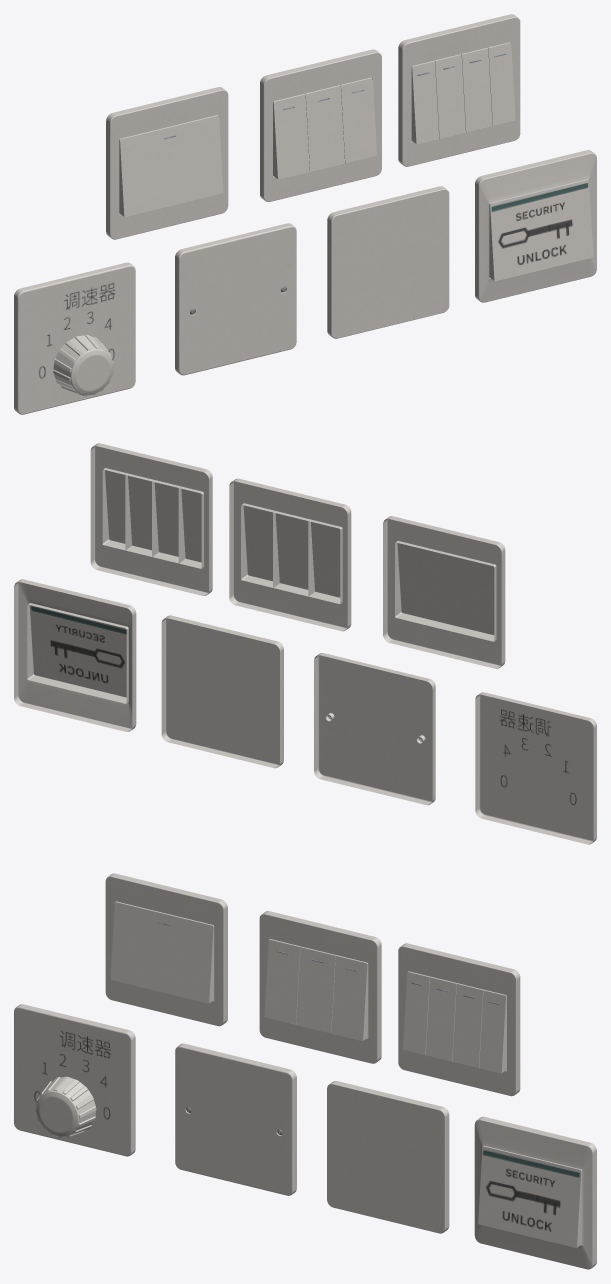
Rendered from switches.glb.
The picture shows the model from 3 angles, top to bottom: view 1: azimuth 30°, elevation 25°; view 2: azimuth 150°, elevation 25°; view 3: azimuth 330°, elevation 25°; orthographic projection.
Parts seen in each view (by area): view 1: 2, 0, 1, 4, 3, 6, 5; view 2: 2, 0, 1, 3, 4, 6, 5; view 3: 3, 0, 4, 1, 2, 5, 6.
Part boxes in pixels (x1,y1,x2,y2): 2: (106,87,228,239); 0: (398,14,520,166); 1: (327,186,449,338); 4: (475,150,596,302); 3: (260,49,381,201); 6: (14,262,135,414); 5: (175,223,296,375); 2: (383,516,505,668); 0: (90,443,212,595); 1: (161,615,283,768); 3: (229,478,351,631); 4: (14,579,136,731); 6: (475,692,596,844); 5: (314,653,435,805); 3: (259,911,381,1063); 0: (398,943,520,1096); 4: (474,1116,596,1269); 1: (327,1081,449,1233); 2: (105,873,227,1026); 5: (175,1043,296,1195); 6: (14,1004,135,1156).
Size of the model in its own units: 0.421 by 0.1934 by 0.0254.
1 material, 1 textured.
